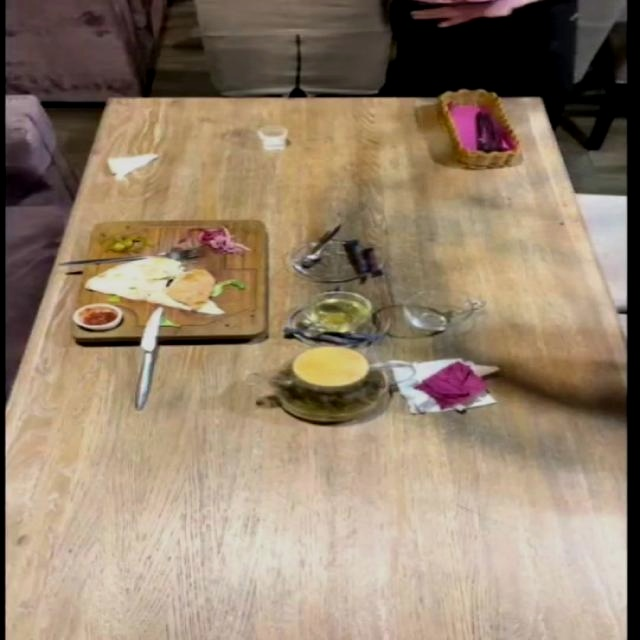meat: (69, 208, 279, 351)
tea: (269, 346, 388, 422)
